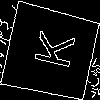K: (25, 27, 76, 71)
